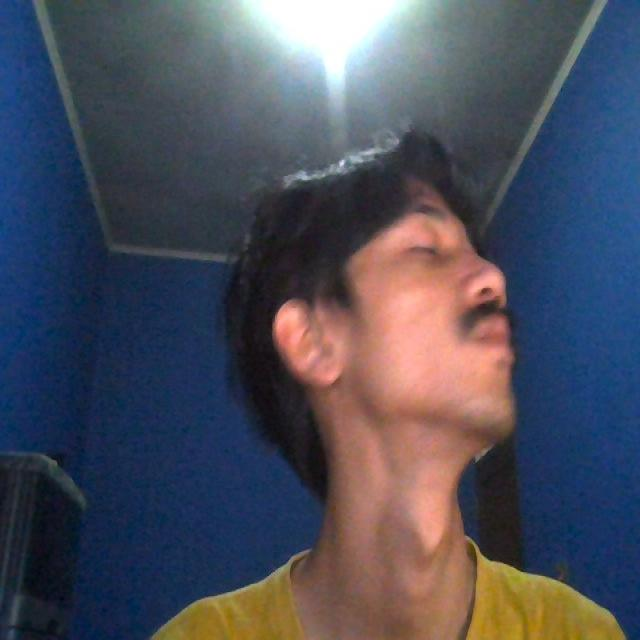melihat kekiri: (195, 108, 557, 492)
